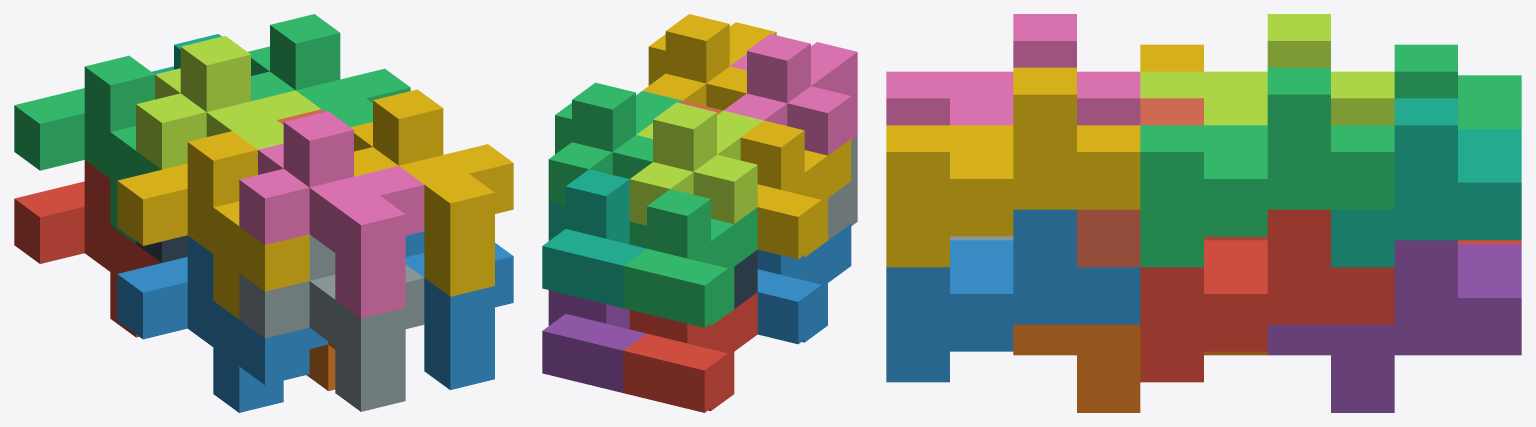
The model's file is tiling.obj.
3 views of the same model, side by side, from view 1: azimuth 30°, elevation 25°; view 2: azimuth 150°, elevation 25°; view 3: azimuth 270°, elevation 25° (orthographic). The views are drawn at different scales.
Parts seen in each view (by area): view 1: copy_2_domain_4, copy_2_domain_8, copy_1_domain_4, copy_1_domain_2, copy_2_domain_2, copy_2_domain_3, copy_1_domain_3, copy_2_domain_7, copy_1_domain_1, copy_2_domain_6, copy_1_domain_6, copy_2_domain_1; view 2: copy_1_domain_3, copy_2_domain_4, copy_2_domain_3, copy_1_domain_1, copy_1_domain_4, copy_1_domain_7, copy_2_domain_7, copy_2_domain_8, copy_1_domain_5, copy_1_domain_2, copy_2_domain_2, copy_2_domain_1; view 3: copy_2_domain_7, copy_2_domain_8, copy_2_domain_6, copy_2_domain_5, copy_1_domain_5, copy_1_domain_7, copy_2_domain_4, copy_2_domain_3, copy_1_domain_6, copy_1_domain_3, copy_1_domain_8, copy_1_domain_4.
Part boxes in pixels (bbox=[...]): copy_2_domain_4: bbox=[239, 111, 424, 318]; copy_2_domain_8: bbox=[351, 89, 513, 296]; copy_1_domain_4: bbox=[117, 131, 309, 319]; copy_1_domain_2: bbox=[117, 235, 328, 412]; copy_2_domain_2: bbox=[239, 234, 424, 411]; copy_2_domain_3: bbox=[136, 36, 320, 169]; copy_1_domain_3: bbox=[14, 55, 161, 243]; copy_2_domain_7: bbox=[248, 14, 410, 127]; copy_1_domain_1: bbox=[14, 160, 161, 337]; copy_2_domain_6: bbox=[405, 231, 513, 389]; copy_1_domain_6: bbox=[306, 341, 335, 390]; copy_2_domain_1: bbox=[136, 235, 187, 262]; copy_1_domain_3: bbox=[623, 189, 757, 327]; copy_2_domain_4: bbox=[724, 34, 857, 155]; copy_2_domain_3: bbox=[629, 102, 763, 225]; copy_1_domain_1: bbox=[623, 292, 757, 412]; copy_1_domain_4: bbox=[740, 120, 851, 259]; copy_1_domain_7: bbox=[542, 169, 646, 307]; copy_2_domain_7: bbox=[548, 82, 682, 205]; copy_2_domain_8: bbox=[642, 14, 776, 110]; copy_1_domain_5: bbox=[542, 290, 646, 392]; copy_1_domain_2: bbox=[757, 224, 851, 344]; copy_2_domain_2: bbox=[828, 137, 857, 240]; copy_2_domain_1: bbox=[734, 250, 757, 308]; copy_2_domain_7: bbox=[1140, 67, 1394, 267]; copy_2_domain_8: bbox=[886, 67, 1140, 267]; copy_2_domain_6: bbox=[886, 209, 1140, 382]; copy_2_domain_5: bbox=[1140, 209, 1394, 382]; copy_1_domain_5: bbox=[1267, 240, 1521, 412]; copy_1_domain_7: bbox=[1331, 98, 1521, 267]; copy_2_domain_4: bbox=[886, 14, 1140, 125]; copy_2_domain_3: bbox=[1140, 14, 1394, 125]; copy_1_domain_6: bbox=[1013, 324, 1267, 412]; copy_1_domain_3: bbox=[1394, 44, 1521, 128]; copy_1_domain_8: bbox=[1077, 98, 1267, 267]; copy_1_domain_4: bbox=[1140, 44, 1203, 71].
Size of the model in its own units: 6 by 6 by 10.
